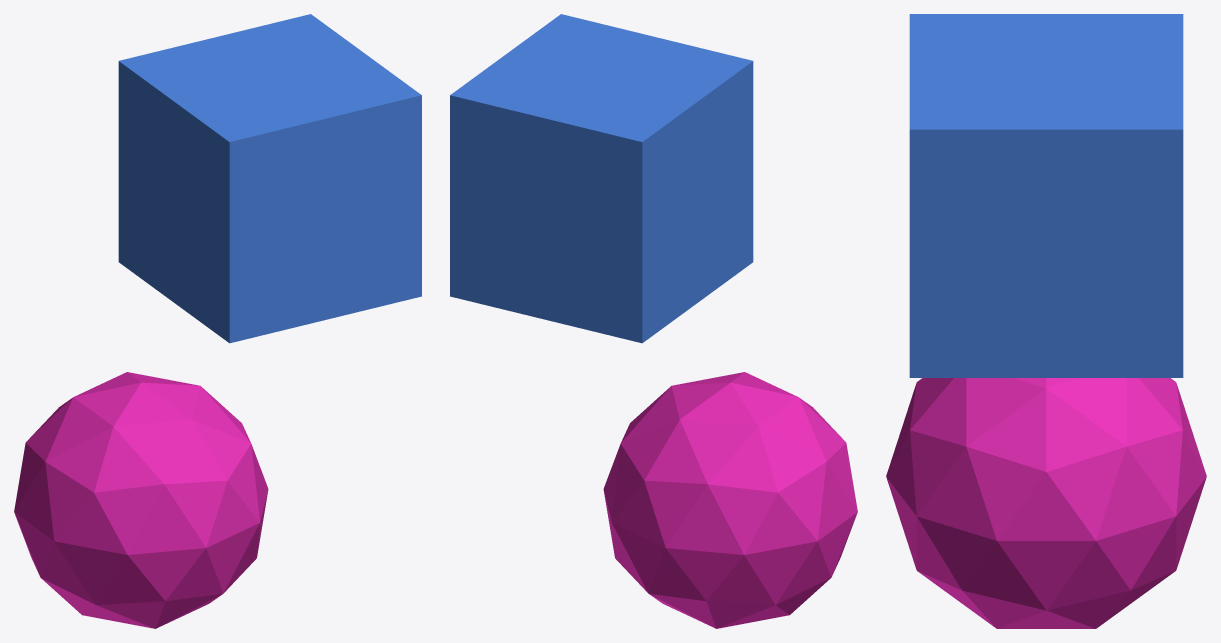
3 views of the same model, side by side, from view 1: azimuth 30°, elevation 25°; view 2: azimuth 150°, elevation 25°; view 3: azimuth 270°, elevation 25° (orthographic). The views are drawn at different scales.
Visible parts, largest first — view 1: Cube, Icosphere; view 2: Cube, Icosphere; view 3: Cube, Icosphere.
Part boxes in pixels (x1,y1,x2,y2): Cube: [118, 14, 421, 343]; Icosphere: [14, 372, 268, 628]; Cube: [450, 14, 753, 343]; Icosphere: [603, 372, 857, 628]; Cube: [909, 14, 1183, 377]; Icosphere: [886, 378, 1206, 628].
Size of what is drawn, in the model's own units: 3.46 by 5.06 by 2.34.
